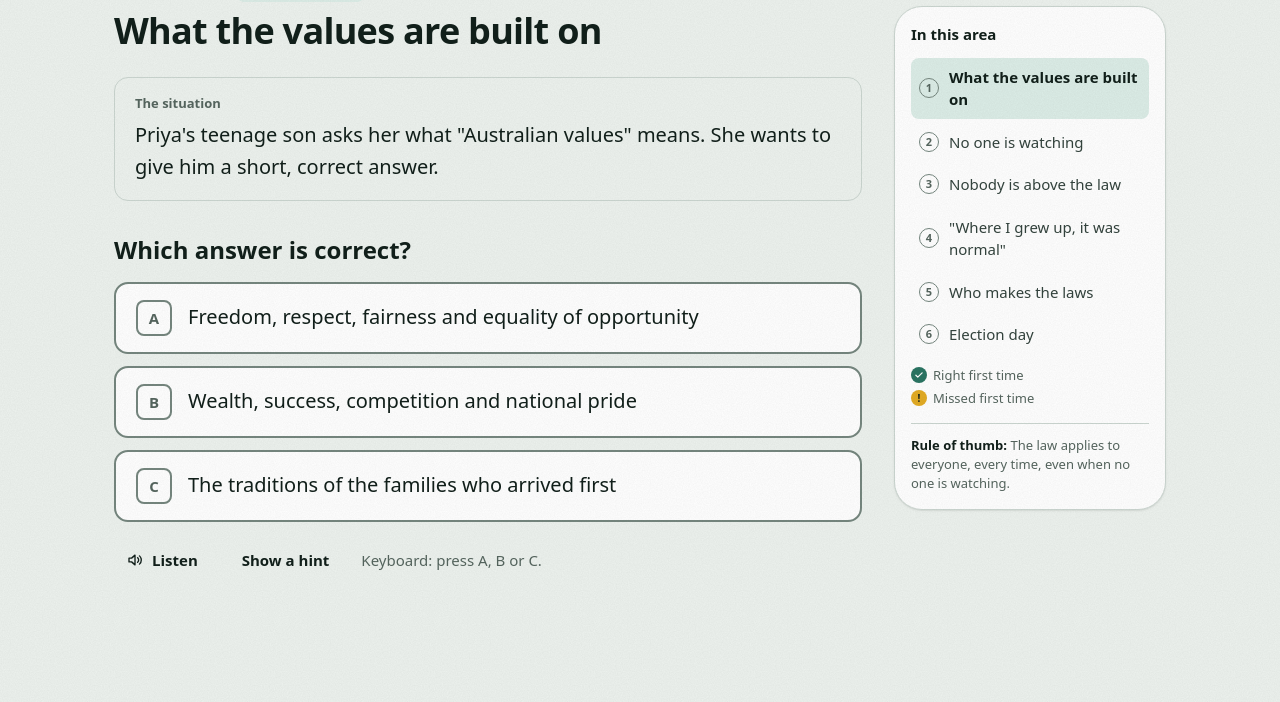
Test: ScenarioPlayer › offers a hint before answering
(page scrolled)
Click the button "Show a hint".
click(286, 560)  # box 226,538 -> 345,582
(page scrolled)
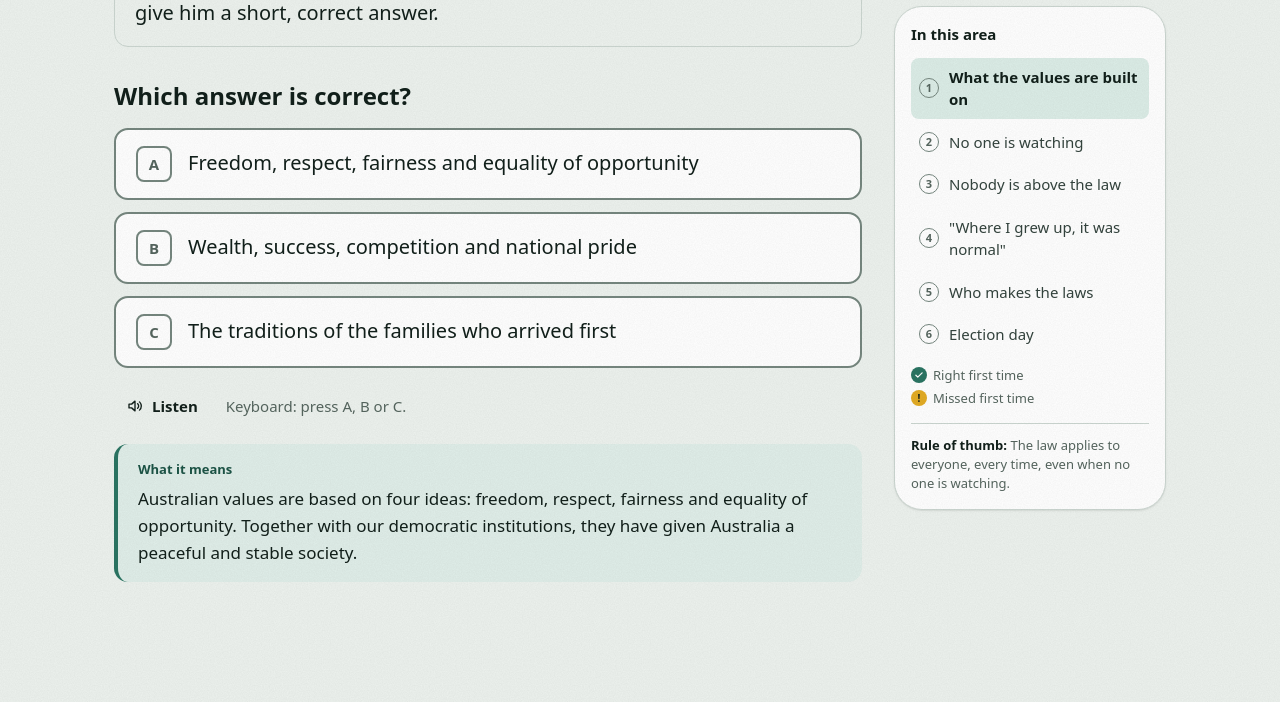
Expected: the text "Australian values are based on four ideas: freedom, respect, fairness and equality of opportunity. Together with our dem" is shown, 138,487 -> 807,564
